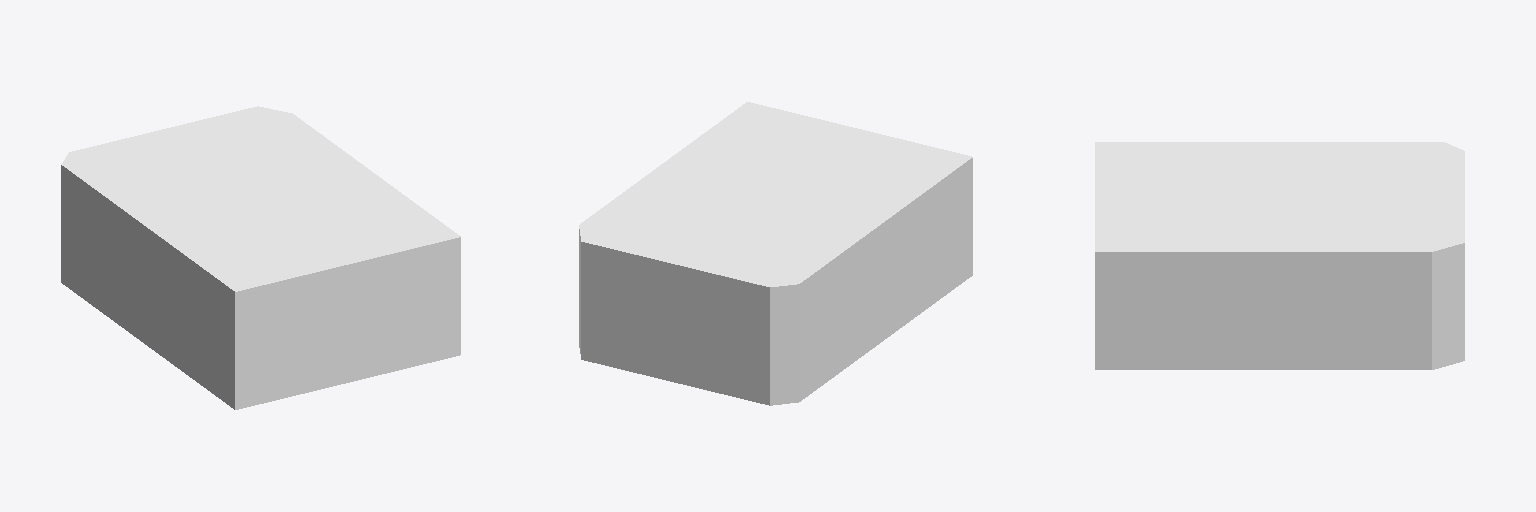
Rendered from BarInterior.obj.
The picture shows the model from 3 angles: view 1: azimuth 30°, elevation 25°; view 2: azimuth 150°, elevation 25°; view 3: azimuth 270°, elevation 25°; orthographic projection.
Visible parts, largest first — view 1: BarInterior; view 2: BarInterior; view 3: BarInterior.
Part boxes in pixels (x1,y1,x2,y2): BarInterior: (61, 106, 460, 409); BarInterior: (579, 102, 972, 405); BarInterior: (1095, 142, 1464, 369).
Size of the model in its own units: 12 by 6 by 17.